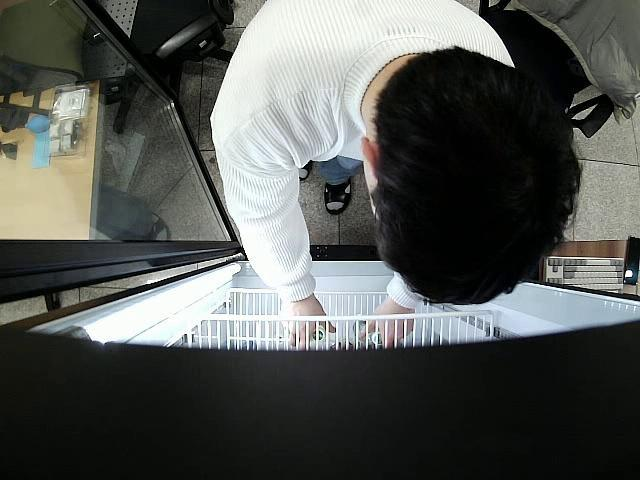18_trevi: (352, 320, 384, 348), (312, 320, 331, 342)
